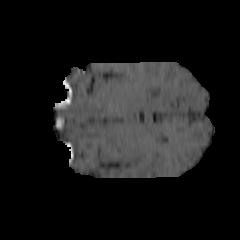glioma: (102, 112, 161, 162)
